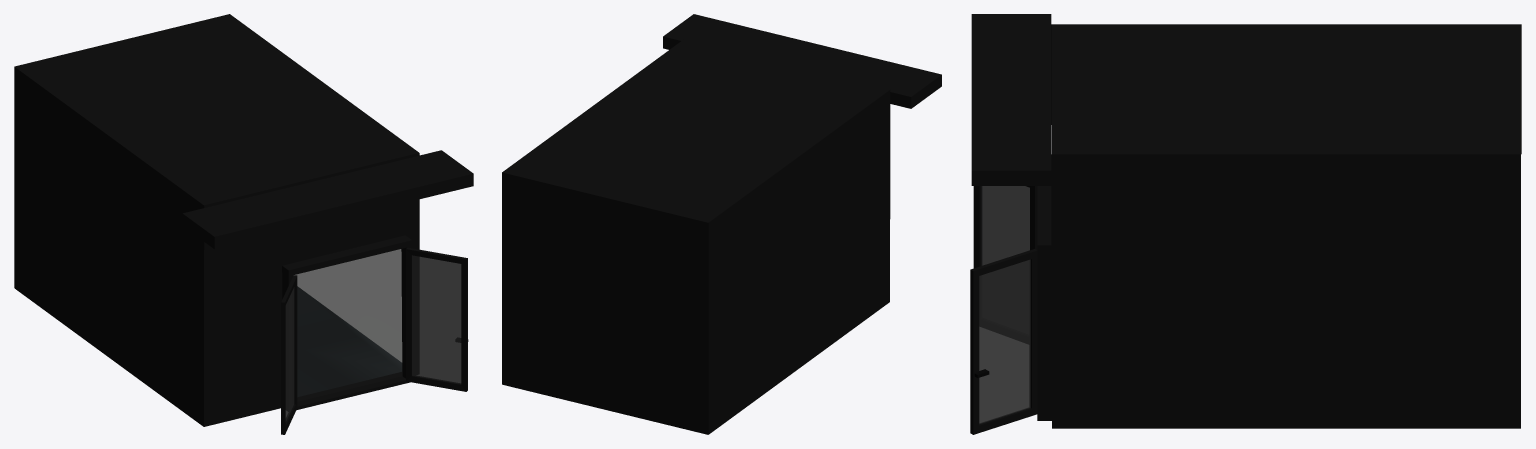
Rendered from Shop_Black.glb.
The picture shows the model from 3 angles, left to right: view 1: azimuth 30°, elevation 25°; view 2: azimuth 150°, elevation 25°; view 3: azimuth 270°, elevation 25°; orthographic projection. The views are drawn at different scales.
Visible parts, largest first — view 1: ShopBlack; view 2: ShopBlack; view 3: ShopBlack.
Part boxes in pixels (box(x1,y1,x2,y2)): ShopBlack: box(14, 14, 473, 434); ShopBlack: box(502, 14, 941, 434); ShopBlack: box(970, 14, 1521, 434).
Size of what is drawn, in the model's own units: 6.11 by 4.99 by 9.1.
2 materials, 2 textured.
